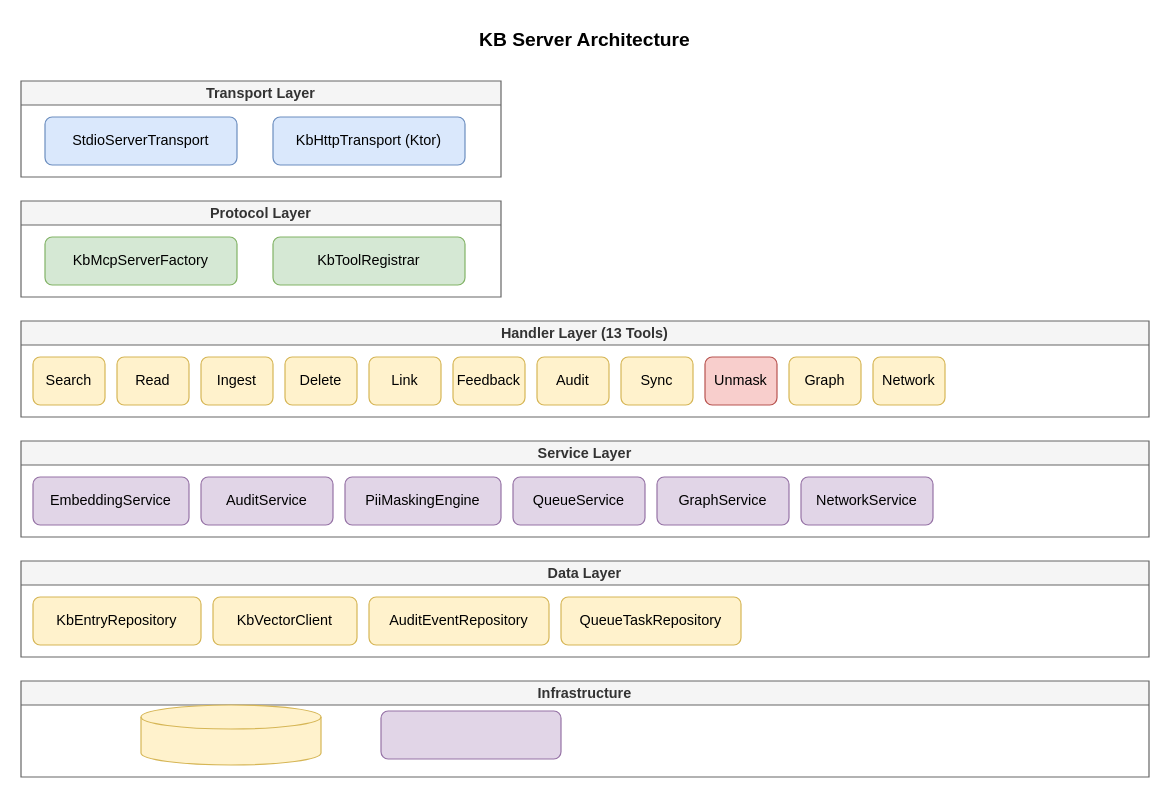
Image size: 1170x798. Some labels were removed from this diagram. The centre of each missing label's shape, as x and y in pixels:
Ollama (Embeddings): the point at 470,734
PostgreSQL + pgvector: the point at 230,734
